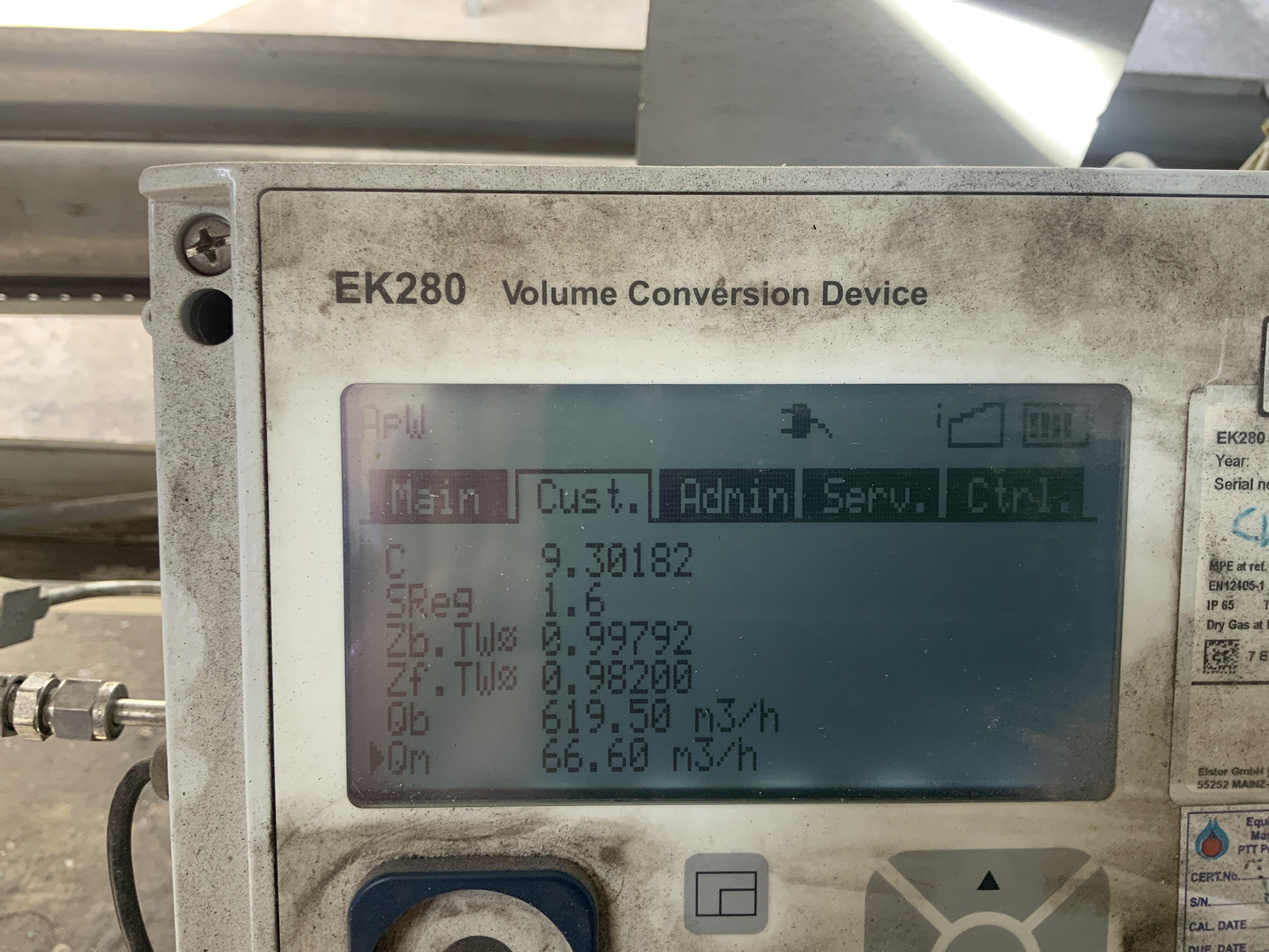digital_screen: (344, 386, 1131, 801)
